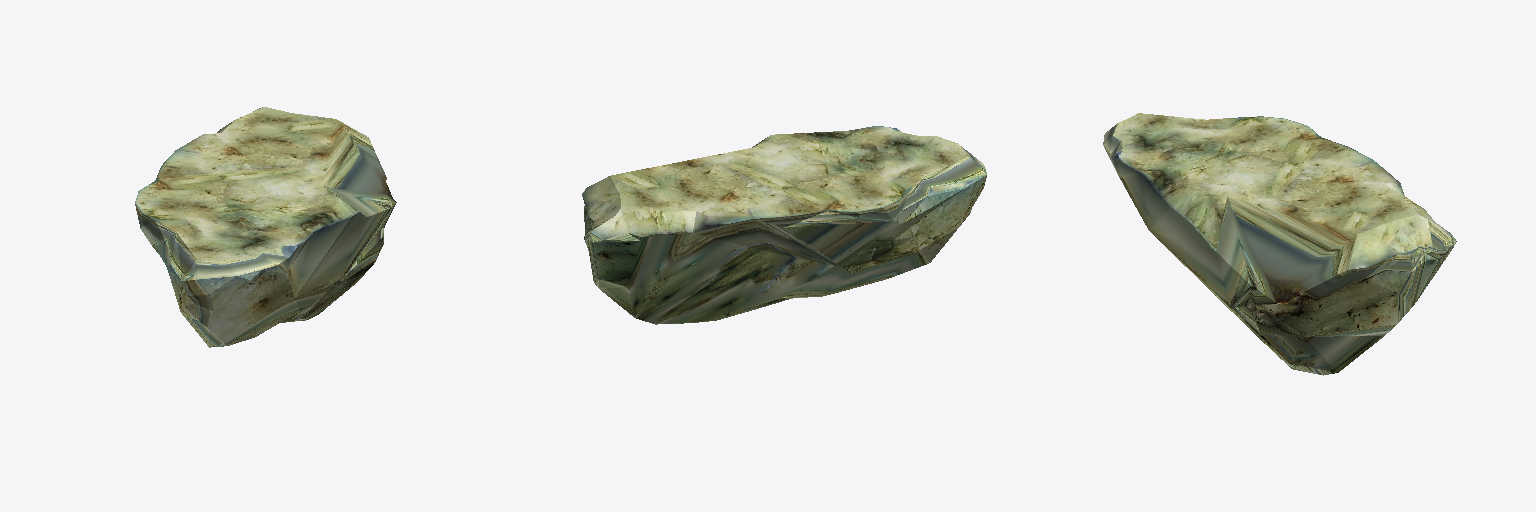
3 renders of one model, left to right at view 1: azimuth 30°, elevation 25°; view 2: azimuth 150°, elevation 25°; view 3: azimuth 270°, elevation 25°, orthographic.
Parts seen in each view (by area): view 1: VMtl01; view 2: VMtl01; view 3: VMtl01.
Boxes of the visible parts, box(x1,y1,x2,y2) form: VMtl01: box(135, 107, 396, 347); VMtl01: box(582, 126, 986, 324); VMtl01: box(1103, 113, 1456, 375).
Bounding box in the file's own units: 90.21 × 46.73 × 94.19.
Materials: 1 (1 with a texture image).